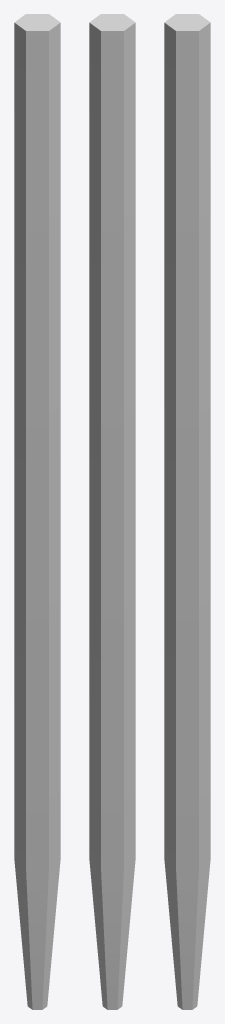
Rendered from Console_Mintendo_DX_Stylus.obj.
3 renders of one model, left to right at view 1: azimuth 90°, elevation 25°; view 2: azimuth 150°, elevation 25°; view 3: azimuth 270°, elevation 25°, orthographic.
Parts seen in each view (by area): view 1: Console_Mintendo_DX_Stylus; view 2: Console_Mintendo_DX_Stylus; view 3: Console_Mintendo_DX_Stylus.
Boxes of the visible parts, <box> form: Console_Mintendo_DX_Stylus: <box>14,14,60,1009</box>; Console_Mintendo_DX_Stylus: <box>89,14,135,1009</box>; Console_Mintendo_DX_Stylus: <box>164,14,210,1009</box>.
Bounding box in the file's own units: 0.00725 × 0.1962 × 0.00838.
